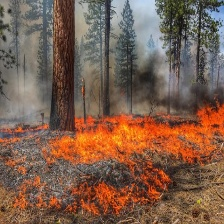fire: (1, 101, 224, 210)
smoke: (1, 2, 217, 109)
